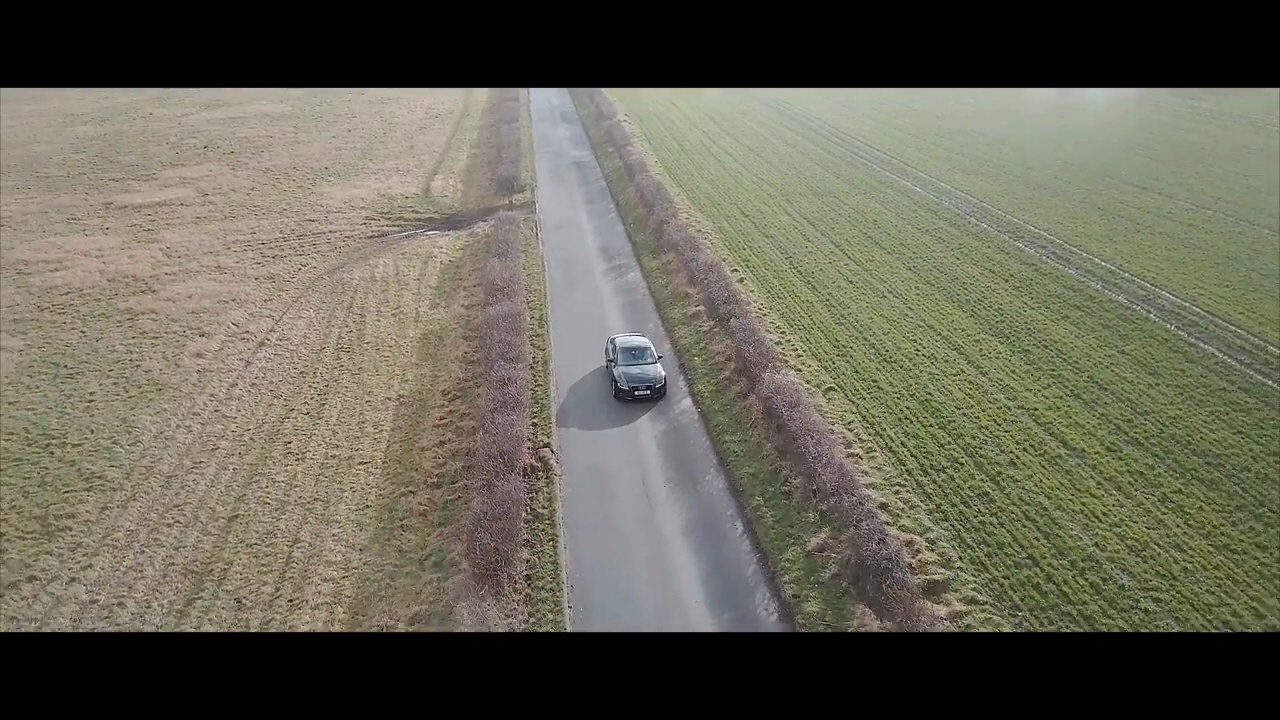araba: (599, 331, 671, 403)
